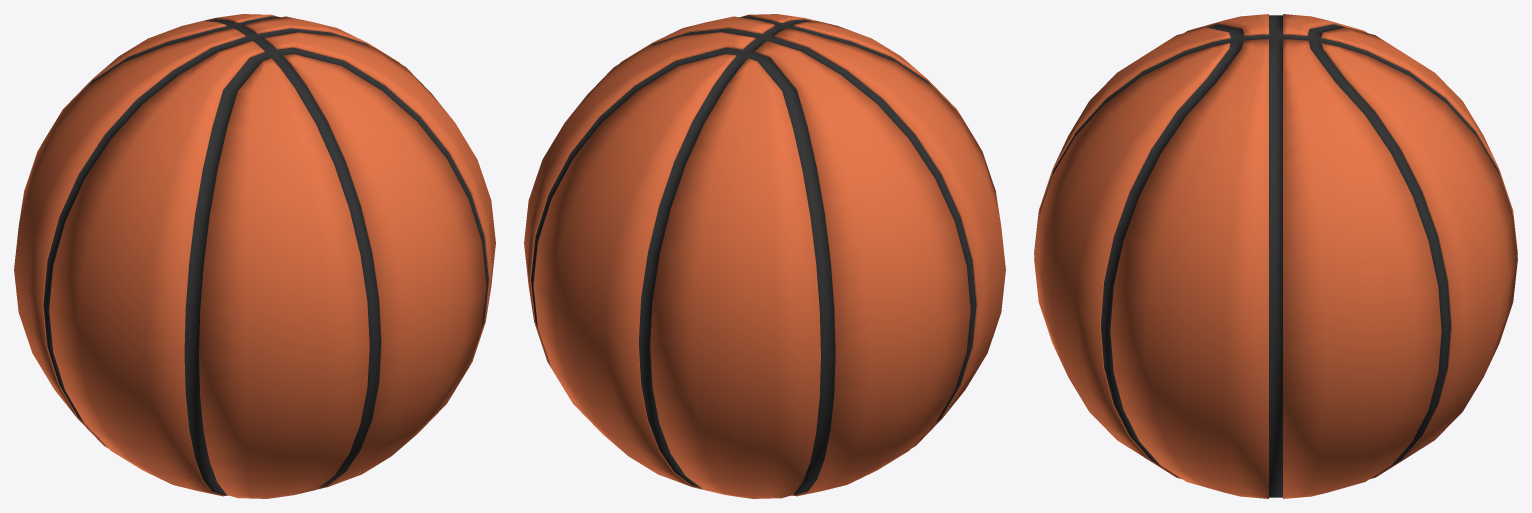
File: BasketbolTopu.fbx
3 renders of one model, left to right at view 1: azimuth 30°, elevation 25°; view 2: azimuth 150°, elevation 25°; view 3: azimuth 270°, elevation 25°, orthographic.
Parts seen in each view (by area): view 1: BasketballBall.002; view 2: BasketballBall.002; view 3: BasketballBall.002.
Part boxes in pixels (<box>): BasketballBall.002: <box>14,14,495,498</box>; BasketballBall.002: <box>524,14,1005,498</box>; BasketballBall.002: <box>1034,14,1517,498</box>.
Size of the model in its own units: 0.7499 by 0.7527 by 0.7499.
